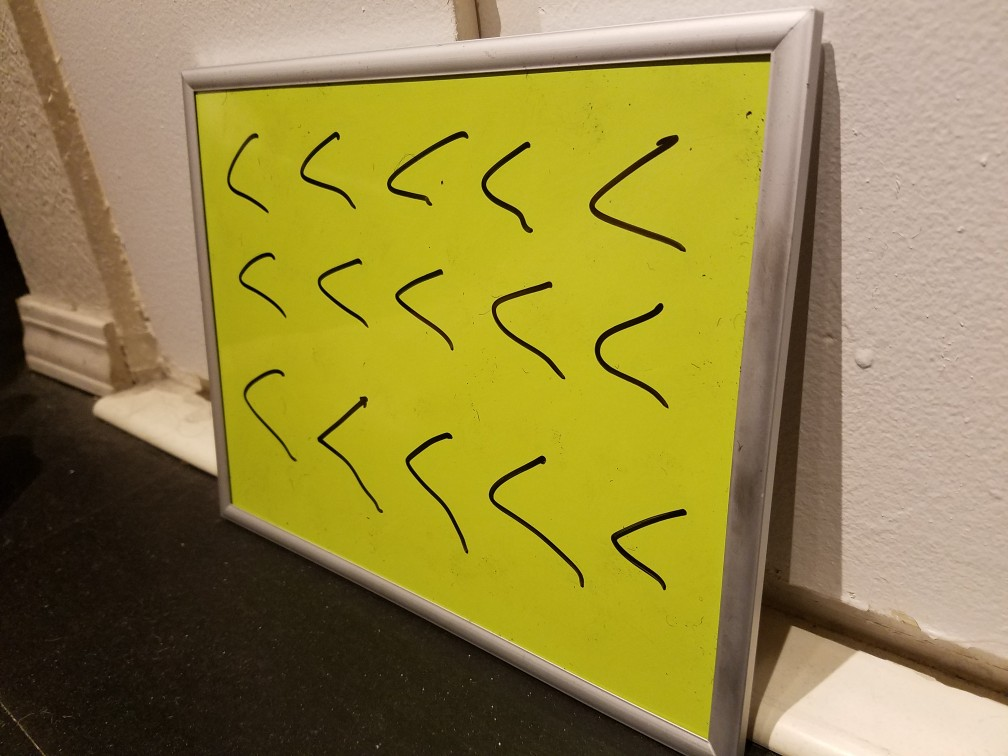<: (576, 122, 700, 266), (480, 450, 585, 592), (587, 285, 675, 422), (481, 262, 574, 385), (307, 377, 386, 517), (395, 413, 476, 544), (379, 116, 470, 226), (289, 117, 365, 220), (234, 348, 295, 474), (387, 254, 458, 359), (607, 503, 688, 594), (476, 133, 536, 233), (233, 240, 295, 332), (307, 244, 366, 330), (221, 126, 271, 215)
